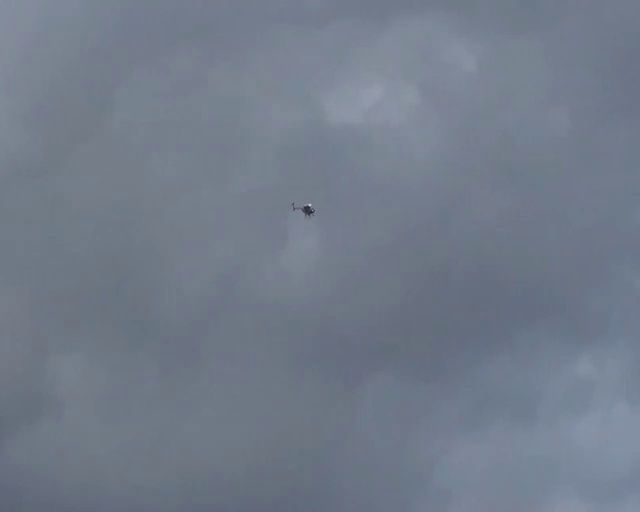HELICOPTER: (291, 201, 315, 218)
